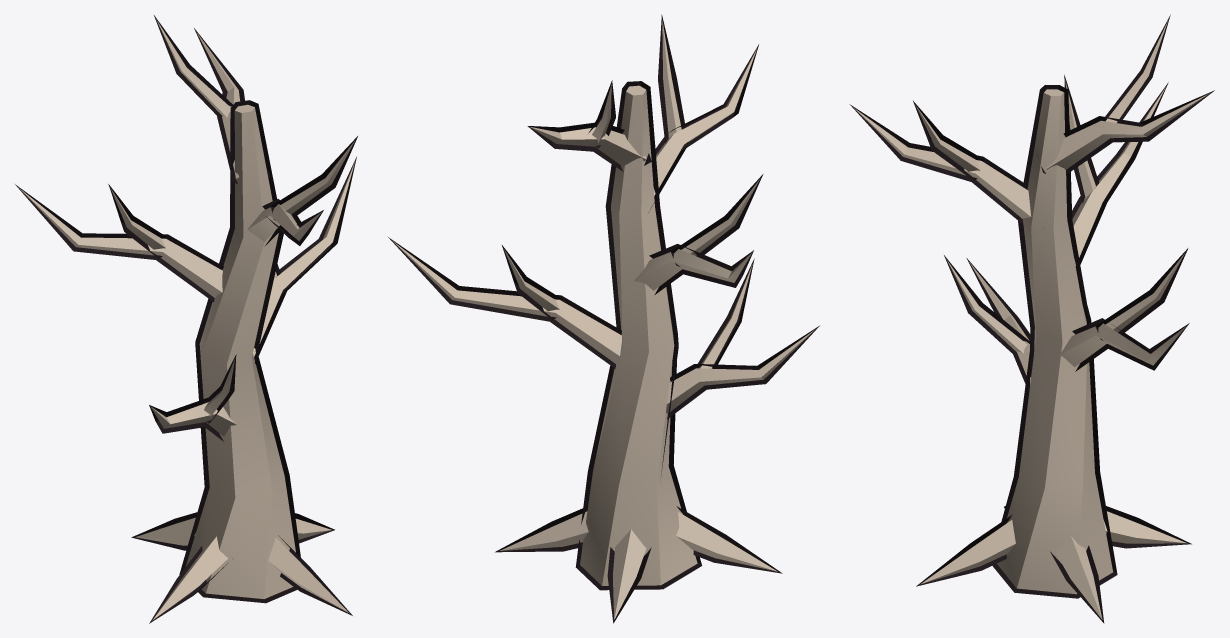
File: SM_Tree_07.fbx
3 renders of one model, left to right at view 1: azimuth 30°, elevation 25°; view 2: azimuth 150°, elevation 25°; view 3: azimuth 270°, elevation 25°, orthographic.
Parts seen in each view (by area): view 1: SM_Tree_07; view 2: SM_Tree_07; view 3: SM_Tree_07.
Boxes of the visible parts, <box> form: SM_Tree_07: <box>15,15,357,623</box>; SM_Tree_07: <box>388,14,819,623</box>; SM_Tree_07: <box>849,14,1214,623</box>.
Size of the model in its own units: 2.76 by 4.01 by 2.45.
